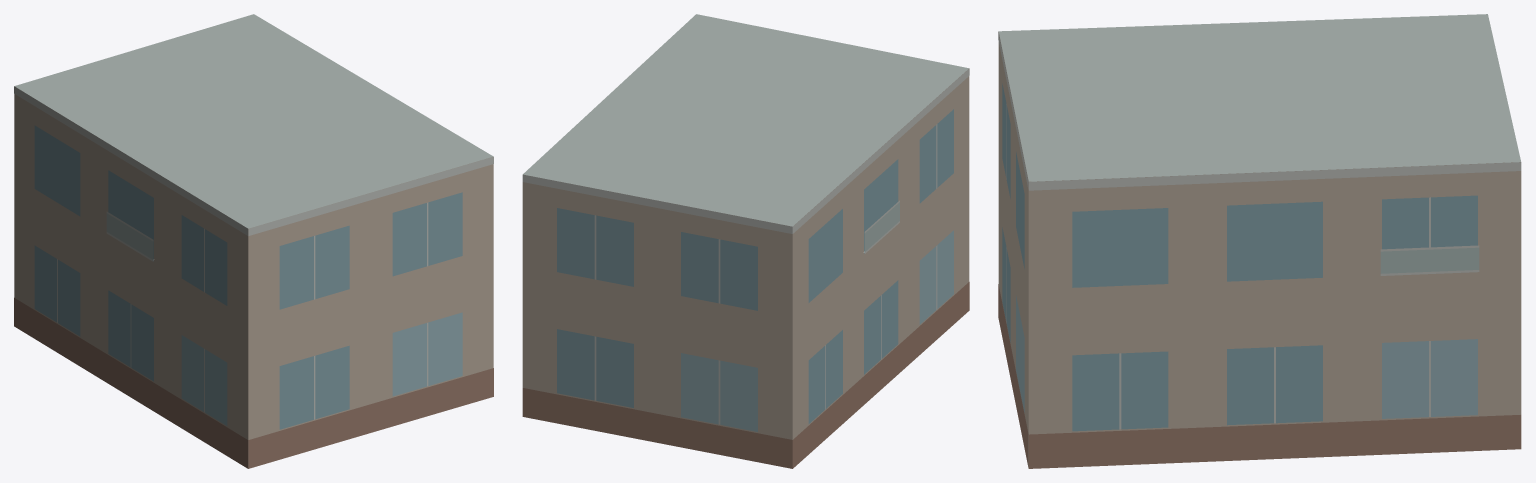
Rendered from survey-upis-32757065.glb.
3 renders of one model, left to right at view 1: azimuth 30°, elevation 25°; view 2: azimuth 150°, elevation 25°; view 3: azimuth 270°, elevation 25°, orthographic. The views are drawn at different scales.
Visible parts, largest first — view 1: survey-upis-32757065.tmp; view 2: survey-upis-32757065.tmp; view 3: survey-upis-32757065.tmp.
Boxes of the visible parts, x1=… form: survey-upis-32757065.tmp: x1=14, y1=14, x2=493, y2=468; survey-upis-32757065.tmp: x1=522, y1=14, x2=969, y2=468; survey-upis-32757065.tmp: x1=998, y1=14, x2=1521, y2=468.
Size of the model in its own units: 9.85 by 7.85 by 12.96.
